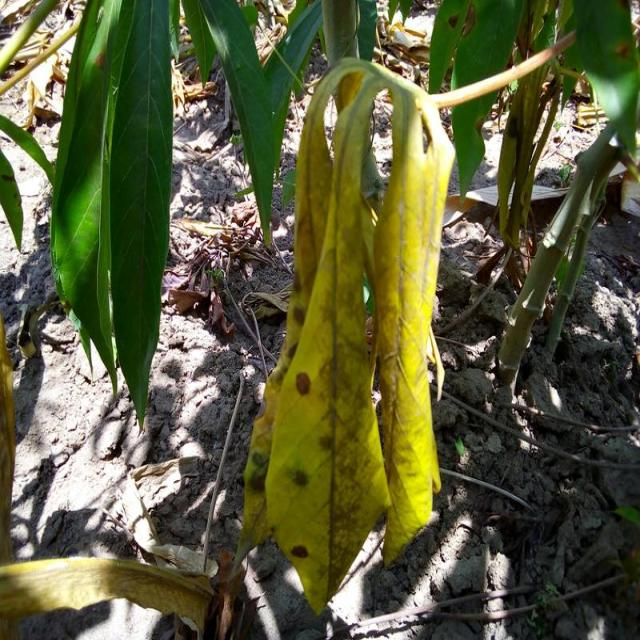cassava leaf: (238, 55, 454, 614), (48, 0, 174, 430)
